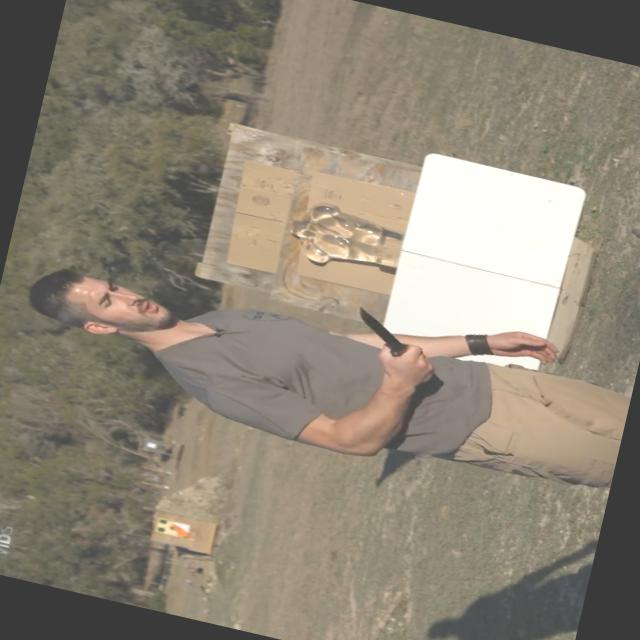knife: (333, 297, 440, 386)
